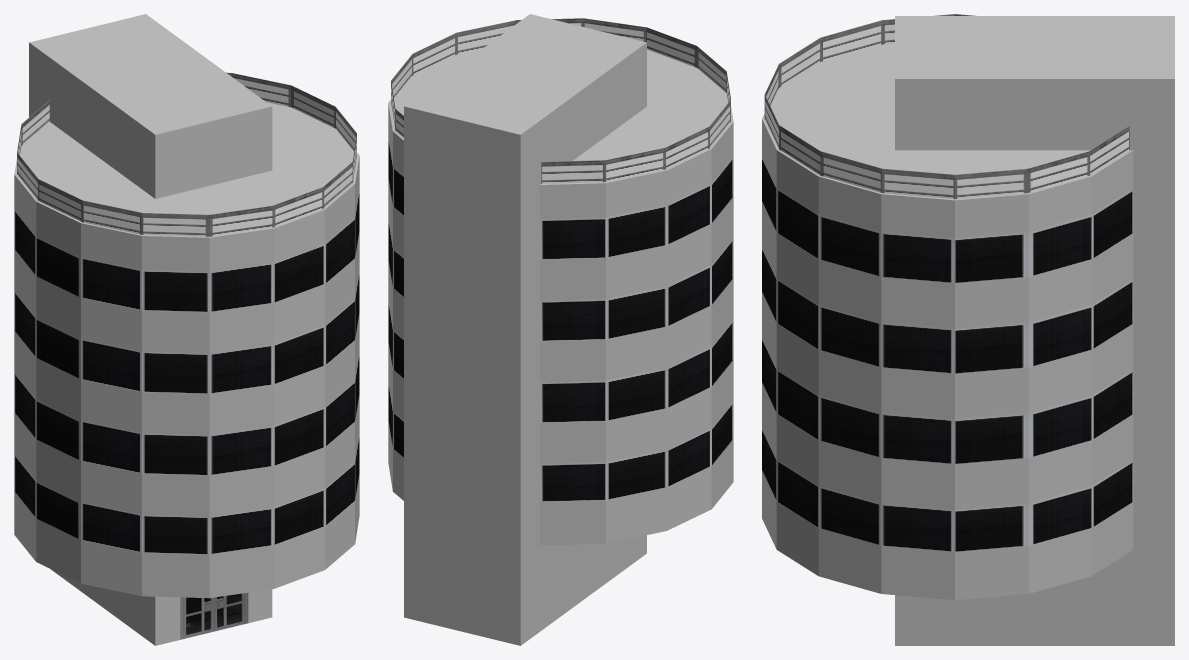
The model's file is Building-G-06.fbx.
3 views of the same model, side by side, from view 1: azimuth 30°, elevation 25°; view 2: azimuth 150°, elevation 25°; view 3: azimuth 270°, elevation 25° (orthographic). The views are drawn at different scales.
Visible parts, largest first — view 1: Building-G-06; view 2: Building-G-06; view 3: Building-G-06.
Boxes of the visible parts, x1,y1,x2,y2 form: Building-G-06: [14, 14, 359, 645]; Building-G-06: [388, 14, 733, 645]; Building-G-06: [762, 14, 1174, 645].
Bounding box in the file's own units: 1274 × 2063 × 1362.
